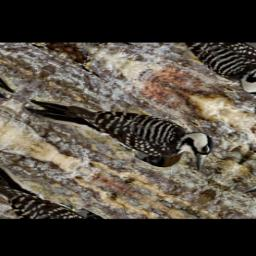Woodpecker: (19, 66, 228, 187)
